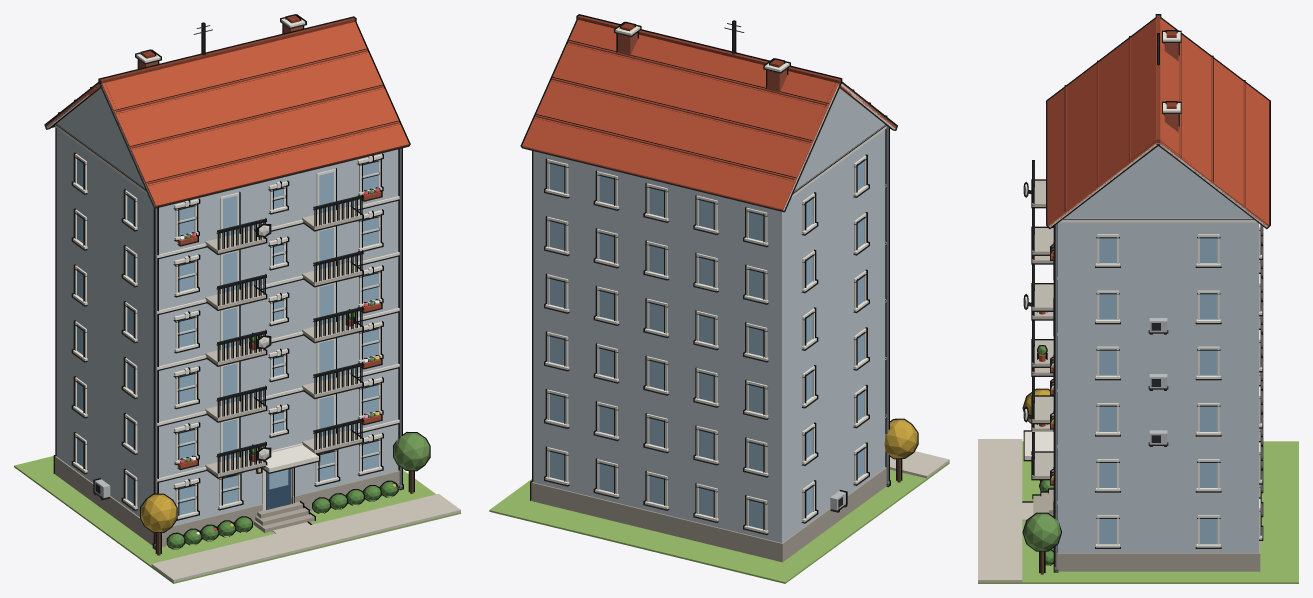
File: Apartman_1_3.fbx
3 views of the same model, side by side, from view 1: azimuth 30°, elevation 25°; view 2: azimuth 150°, elevation 25°; view 3: azimuth 270°, elevation 25° (orthographic). The views are drawn at different scales.
Visible parts, largest first — view 1: Apartman_1_3; view 2: Apartman_1_3; view 3: Apartman_1_3.
Boxes of the visible parts, x1,y1,x2,y2 form: Apartman_1_3: [14, 14, 460, 583]; Apartman_1_3: [489, 14, 949, 583]; Apartman_1_3: [978, 14, 1298, 583].
Bounding box in the file's own units: 15.07 × 23.34 × 14.49.
